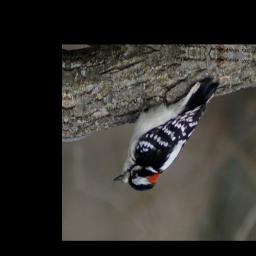Woodpecker: (113, 72, 223, 196)
